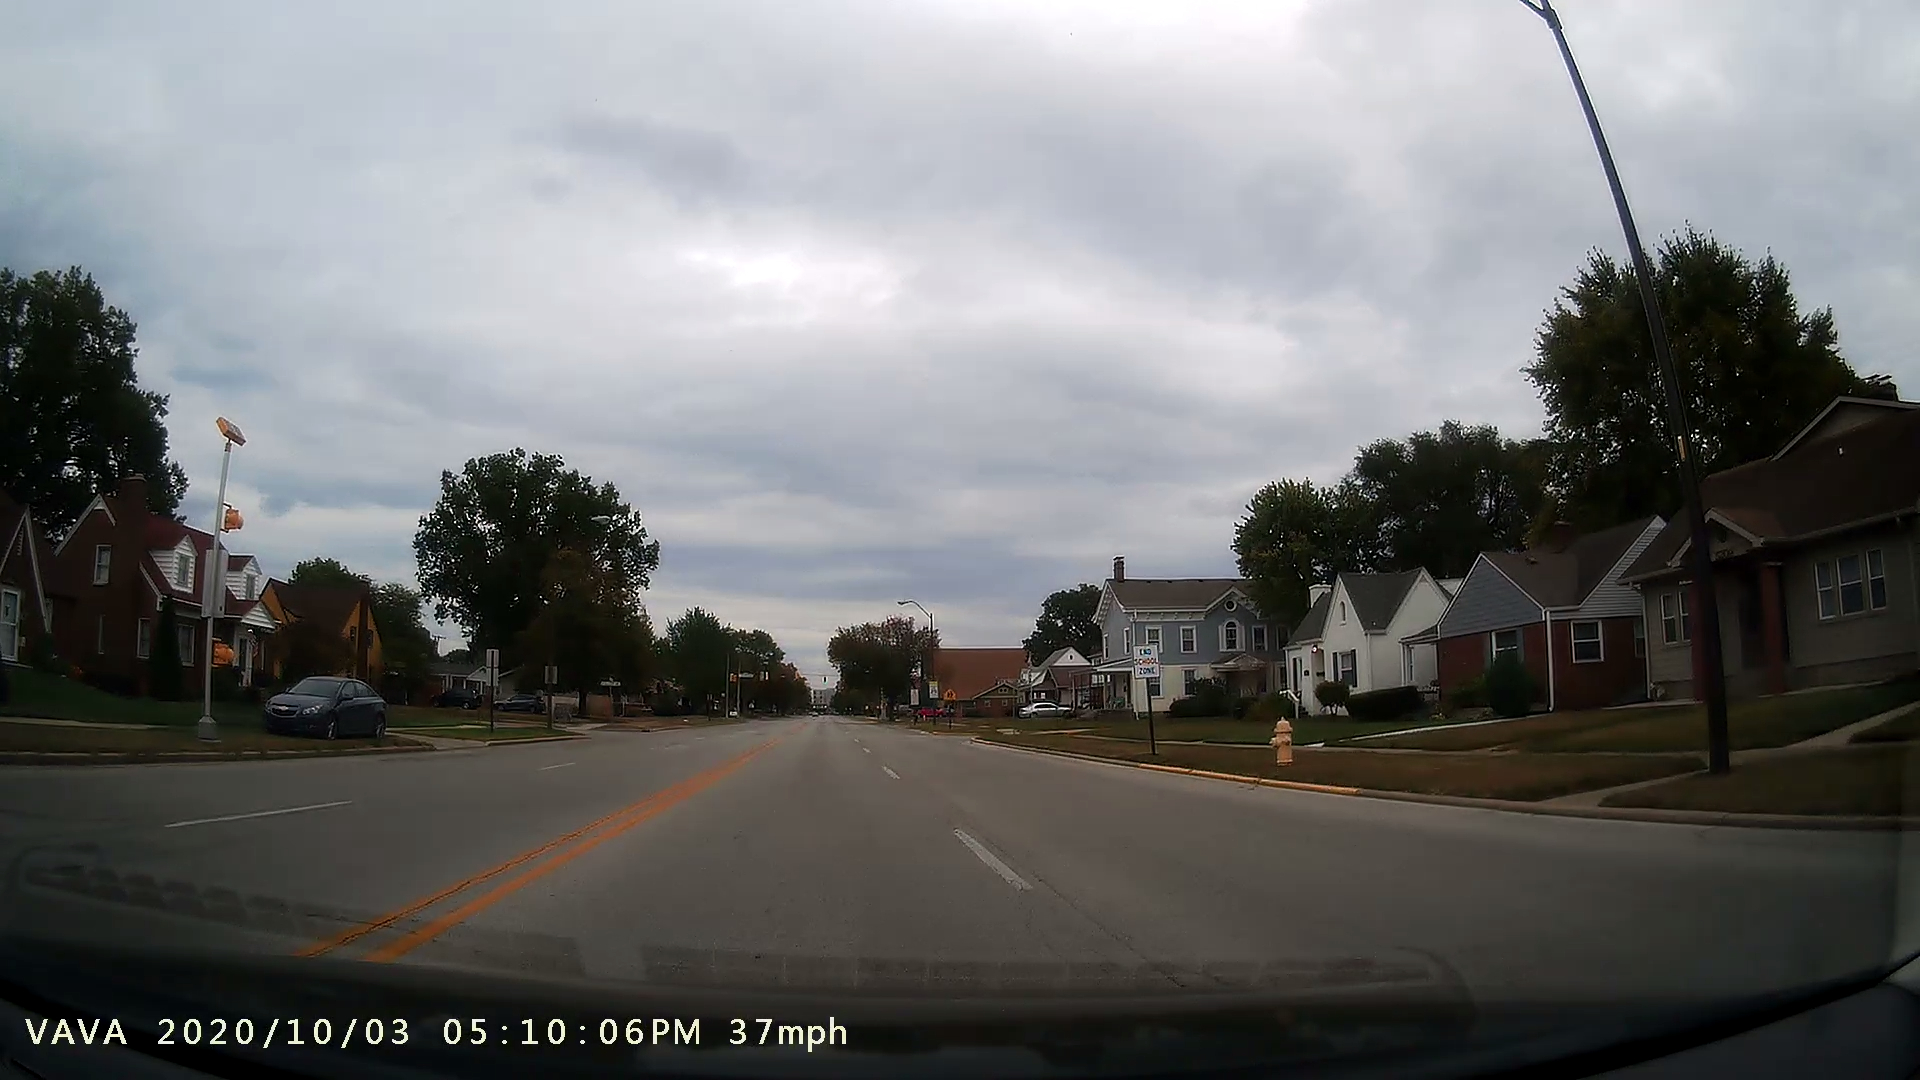fire_hydrant: (1261, 699, 1309, 766)
